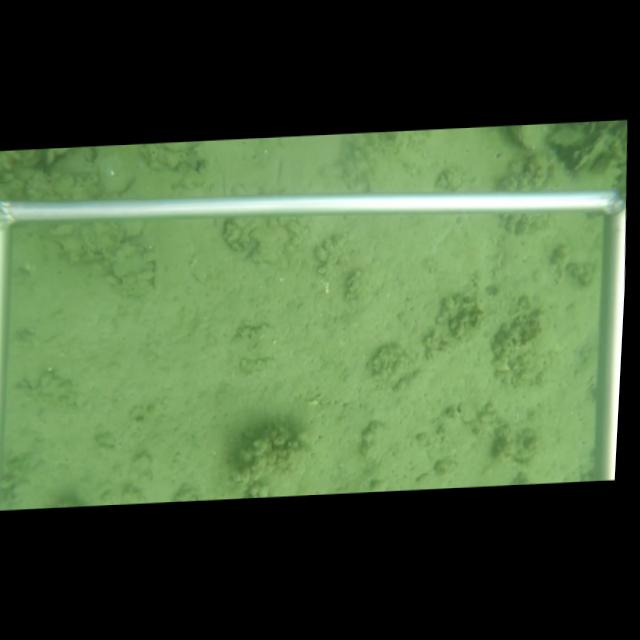Oyster-Closed: (570, 128, 615, 174), (507, 125, 548, 151)
